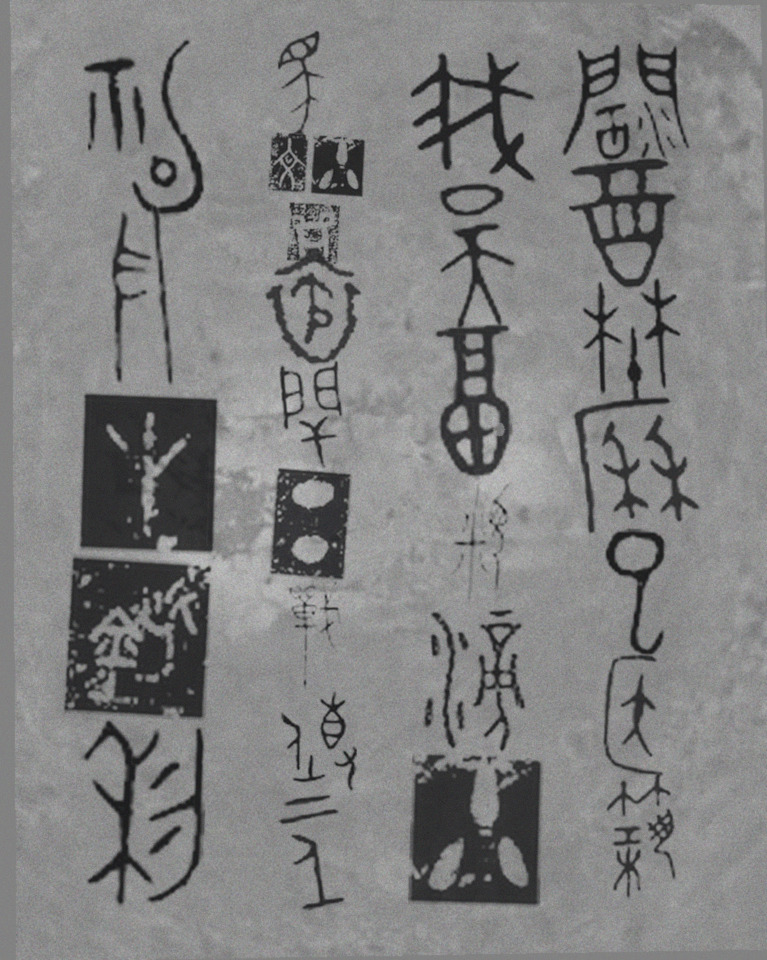char: (59, 553, 216, 724), (80, 715, 209, 911), (75, 390, 223, 557), (81, 35, 210, 219), (405, 749, 547, 910), (569, 395, 703, 537), (407, 47, 538, 185), (557, 40, 693, 165), (420, 604, 528, 755), (566, 154, 681, 292), (264, 130, 370, 267), (579, 275, 684, 410), (432, 321, 516, 482), (108, 202, 178, 390), (260, 243, 364, 368), (437, 180, 518, 332), (446, 469, 517, 618), (267, 466, 355, 582), (604, 772, 680, 903), (603, 526, 670, 659), (600, 649, 667, 780), (276, 791, 347, 914), (278, 689, 360, 794), (276, 359, 346, 471), (287, 580, 343, 692), (275, 29, 329, 145)
